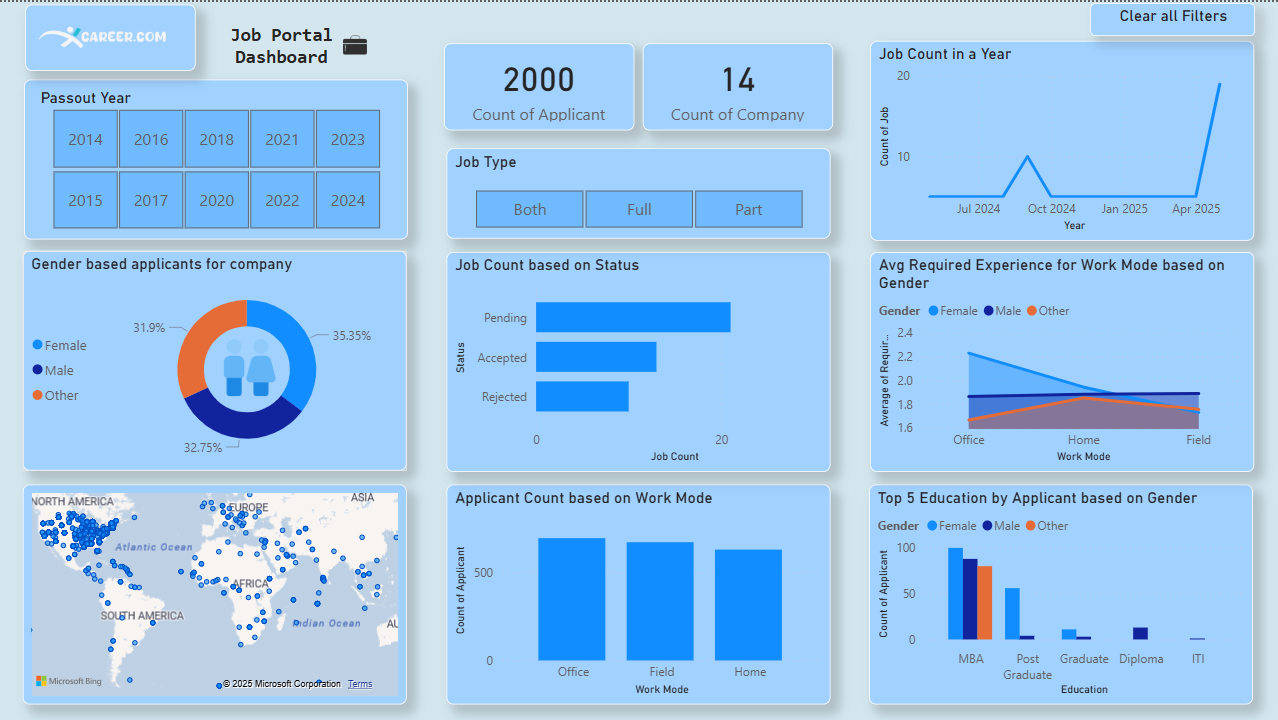

What the dashboard file says about the page in this screenshot:
{"tool":"powerbi","page":{"name":"Page 1","canvas":[1280,720],"ordinal":0},"visuals":[{"type":"textbox","box":[158.8,0,247.5,77.5],"z":1000},{"type":"slicer","title":"Passout Year","fields":{"Values":["Job Portal Data - final_applications_dataset.PassedOut Year"]},"box":[25,77.5,383.8,160],"z":2000},{"type":"donutChart","title":"Gender based applicants for company","fields":{"Category":["Job Portal Data - final_applications_dataset.Gender"],"Y":["CountNonNull(Job Portal Data - final_applications_dataset.Company)"]},"box":[23.8,248.8,384,220],"z":3000,"group":"g1"},{"type":"image","box":[217.6,332.6,66.2,66.2],"z":3500,"group":"g1"},{"type":"map","fields":{"Category":["Job Portal Data - final_applications_dataset.Candidate Place"]},"box":[23.8,482.5,384,220],"z":4000},{"type":"clusteredColumnChart","title":"Applicant Count based on  Work Mode","fields":{"Category":["Job Portal Data - final_applications_dataset.Work Mode"],"Y":["CountNonNull(Job Portal Data - final_applications_dataset.Applicant)"]},"box":[447.5,482.5,383.8,220],"z":5000},{"type":"clusteredColumnChart","title":"Top 5 Education by Applicant based on Gender","fields":{"Category":["Job Portal Data - final_applications_dataset.Education"],"Series":["Job Portal Data - final_applications_dataset.Gender"],"Y":["CountNonNull(Job Portal Data - final_applications_dataset.Applicant)"]},"box":[870,482.5,383.8,220],"z":6000},{"type":"clusteredBarChart","title":"Job Count based on Status","fields":{"Category":["Job Portal Data - final_applications_dataset.Status"],"Y":["Count(Job Portal Data - final_applications_dataset.Job)"]},"box":[447.5,250,383.8,220],"z":7000},{"type":"lineChart","title":"Job Count in a Year","fields":{"Y":["Count(Job Portal Data - final_applications_dataset.Job)"],"Category":["Job Portal Data - final_applications_dataset.Start Date.Variation.Date Hierarchy.Year","Job Portal Data - final_applications_dataset.Start Date.Variation.Date Hierarchy.Month","Job Portal Data - final_applications_dataset.Start Date.Variation.Date Hierarchy.Day"]},"box":[871.2,38.8,383.8,200],"z":8000},{"type":"areaChart","title":"Avg Required Experience for Work Mode based on Gender","fields":{"Category":["Job Portal Data - final_applications_dataset.Work Mode"],"Series":["Job Portal Data - final_applications_dataset.Gender"],"Y":["Avg(Job Portal Data - final_applications_dataset.Required Experience)"]},"box":[871.2,250,383.8,220],"z":9000},{"type":"slicer","title":"Job Type","fields":{"Values":["Job Portal Data - final_applications_dataset.Job Type"]},"box":[447.5,146.2,383.8,90],"z":10000},{"type":"actionButton","title":"Clear all Filters","box":[1091.2,1.2,165,32.5],"z":11000},{"type":"card","fields":{"Values":["CountNonNull(Job Portal Data - final_applications_dataset.Applicant)"]},"box":[445,41.2,190,87.5],"z":12000},{"type":"card","fields":{"Values":["Count(Job Portal Data - final_applications_dataset.Company)"]},"box":[643.8,41.2,190,87.5],"z":13000},{"type":"image","box":[26.2,2.5,170,66.2],"z":14000},{"type":"image","box":[328.8,17.5,55,51.2],"z":14502},{"type":"group","id":"g1","title":"Group 1","box":[23.8,248.8,384,220],"z":14503}]}

Visuals, with their boxes in screenshot pixels (x1, y1, x2, y2), scaled from the page's 1280x720 canvas onto the 1278x720 screenshot:
textbox: bbox=[159, 0, 406, 78]
"Passout Year" slicer: bbox=[25, 78, 408, 238]
"Gender based applicants for company" donutChart: bbox=[24, 249, 407, 469]
image: bbox=[217, 333, 283, 399]
map - Job Portal Data - final_applications_dataset.Candidate Place: bbox=[24, 482, 407, 702]
"Applicant Count based on  Work Mode" clusteredColumnChart: bbox=[447, 482, 830, 702]
"Top 5 Education by Applicant based on Gender" clusteredColumnChart: bbox=[869, 482, 1252, 702]
"Job Count based on Status" clusteredBarChart: bbox=[447, 250, 830, 470]
"Job Count in a Year" lineChart: bbox=[870, 39, 1253, 239]
"Avg Required Experience for Work Mode based on Gender" areaChart: bbox=[870, 250, 1253, 470]
"Job Type" slicer: bbox=[447, 146, 830, 236]
"Clear all Filters" actionButton: bbox=[1089, 1, 1254, 34]
card - CountNonNull(Job Portal Data - final_applications_dataset.Applicant): bbox=[444, 41, 634, 129]
card - Count(Job Portal Data - final_applications_dataset.Company): bbox=[643, 41, 832, 129]
image: bbox=[26, 2, 196, 69]
image: bbox=[328, 18, 383, 69]
"Group 1" group: bbox=[24, 249, 407, 469]
